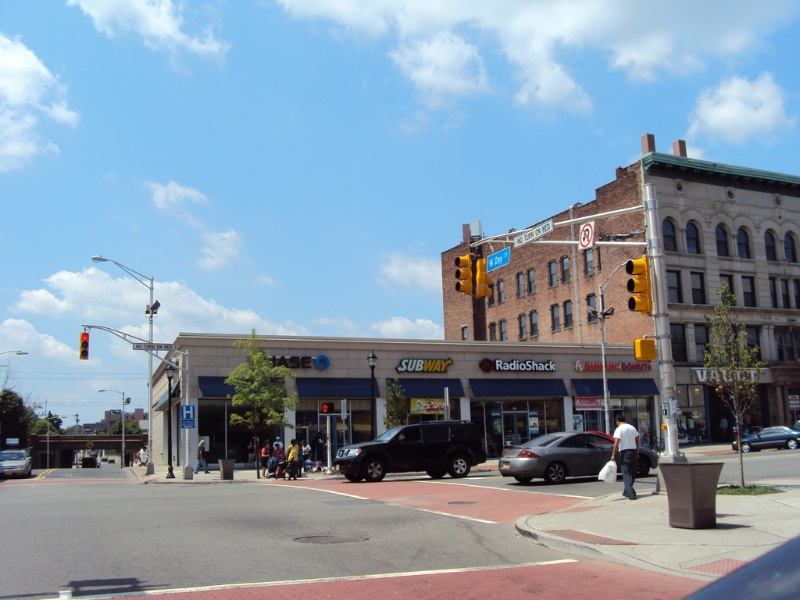no_u_turn: (575, 218, 596, 249)
red_light: (78, 327, 92, 344)
